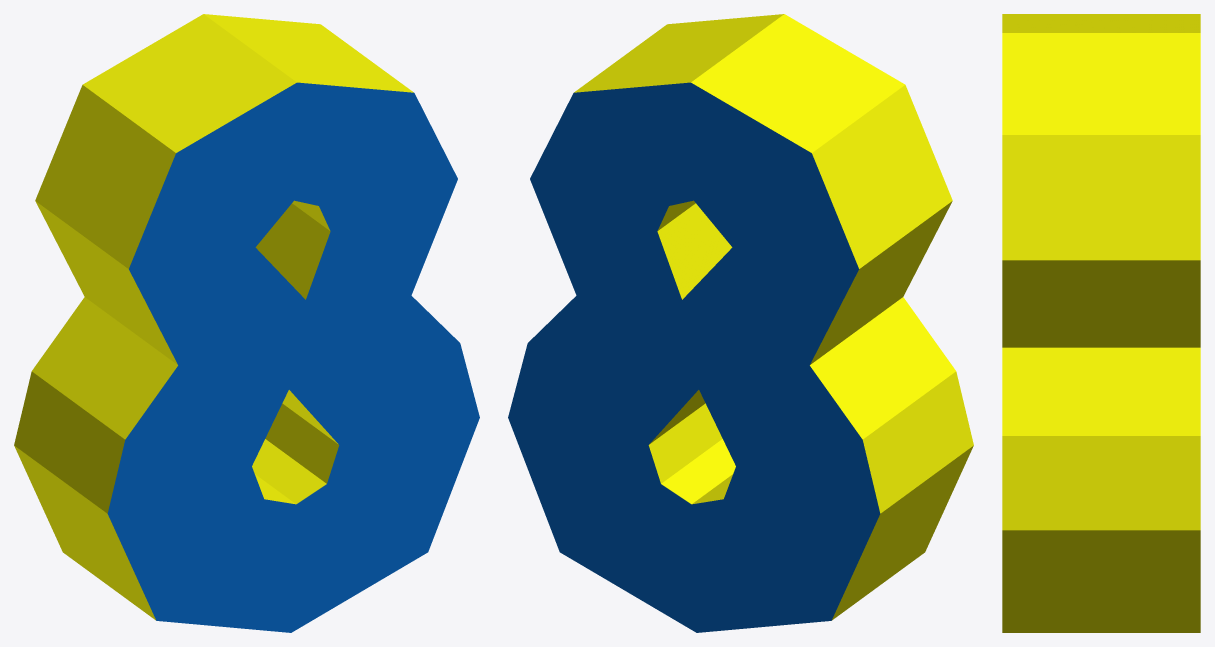
3 renders of one model, left to right at view 1: azimuth 30°, elevation 25°; view 2: azimuth 150°, elevation 25°; view 3: azimuth 270°, elevation 25°, orthographic. The views are drawn at different scales.
Parts seen in each view (by area): view 1: text: ABCDEFGHIJKLMNOPQRSTUVWXYZ01234567891_sep35_blue, text: ABCDEFGHIJKLMNOPQRSTUVWXYZ01234567891_sep35_yellow; view 2: text: ABCDEFGHIJKLMNOPQRSTUVWXYZ01234567891_sep35_blue, text: ABCDEFGHIJKLMNOPQRSTUVWXYZ01234567891_sep35_yellow; view 3: text: ABCDEFGHIJKLMNOPQRSTUVWXYZ01234567891_sep35_yellow.
Part boxes in pixels (x1,y1,x2,y2): text: ABCDEFGHIJKLMNOPQRSTUVWXYZ01234567891_sep35_blue: (107,82,479,632); text: ABCDEFGHIJKLMNOPQRSTUVWXYZ01234567891_sep35_yellow: (14,14,413,620); text: ABCDEFGHIJKLMNOPQRSTUVWXYZ01234567891_sep35_blue: (508,82,880,632); text: ABCDEFGHIJKLMNOPQRSTUVWXYZ01234567891_sep35_yellow: (574,14,973,620); text: ABCDEFGHIJKLMNOPQRSTUVWXYZ01234567891_sep35_yellow: (1002,14,1200,632).
Size of the model in its own units: 57.42 by 80.9 by 25.
